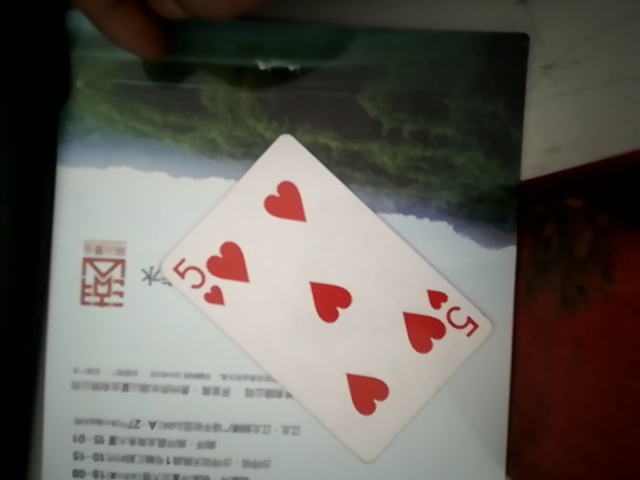hx 5: (103, 138, 514, 457)
